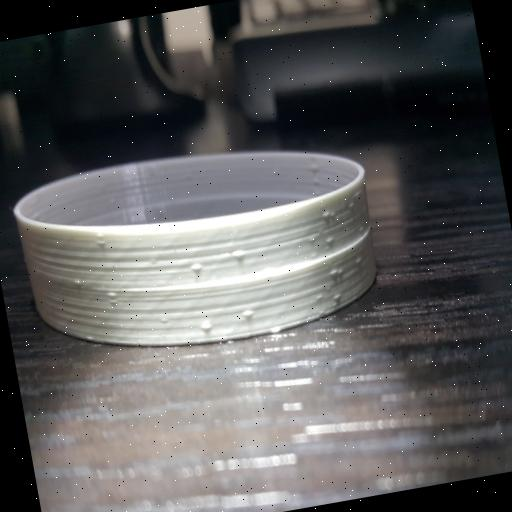blobs: (179, 235, 249, 288), (192, 294, 266, 344), (62, 265, 123, 321), (299, 198, 343, 260), (312, 264, 363, 310)
